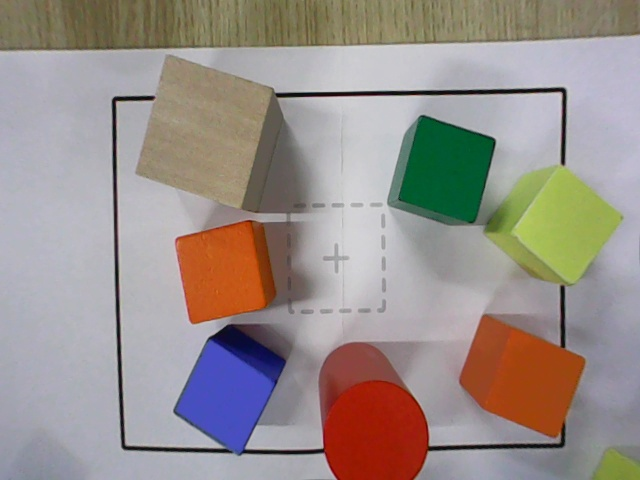upside of big cube: (134, 54, 274, 210)
upside of cylinder: (324, 381, 428, 479)
upside of small cube: (511, 165, 624, 286), (173, 338, 277, 457), (483, 327, 586, 437), (399, 115, 495, 223), (175, 220, 266, 325)
